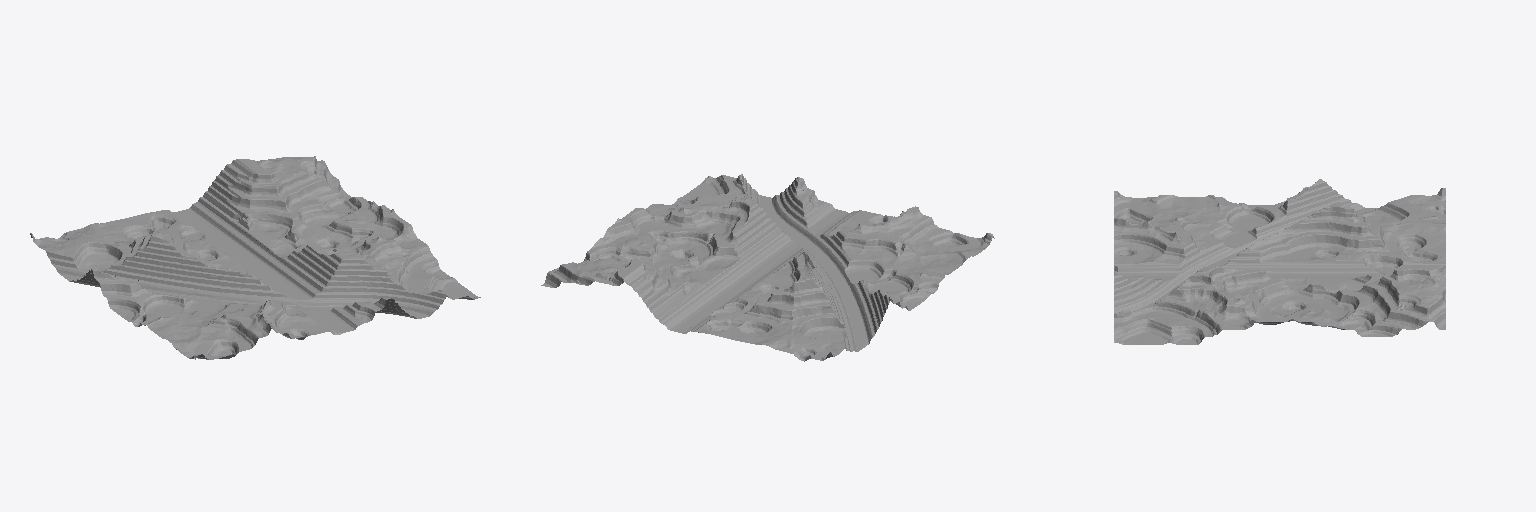
3 renders of one model, left to right at view 1: azimuth 30°, elevation 25°; view 2: azimuth 150°, elevation 25°; view 3: azimuth 270°, elevation 25°, orthographic.
Visible parts, largest first — view 1: O1_TerrainMesh.007; view 2: O1_TerrainMesh.007; view 3: O1_TerrainMesh.007.
Part boxes in pixels (left/top/right/bottom): O1_TerrainMesh.007: left=30, top=156, right=480, bottom=359; O1_TerrainMesh.007: left=541, top=174, right=994, bottom=361; O1_TerrainMesh.007: left=1114, top=179, right=1445, bottom=344.
Size of the model in its own units: 1 by 0.1458 by 1.